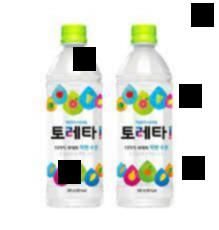toreta: (42, 21, 106, 210), (113, 21, 176, 209)
